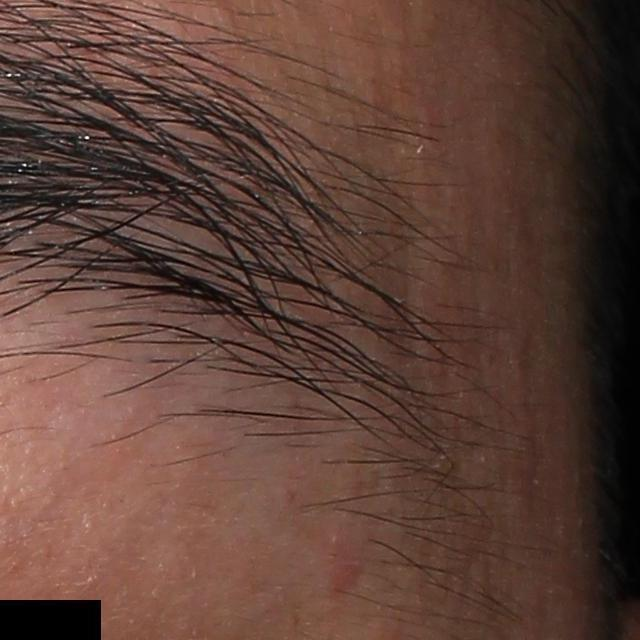papule: (327, 548, 362, 592)
